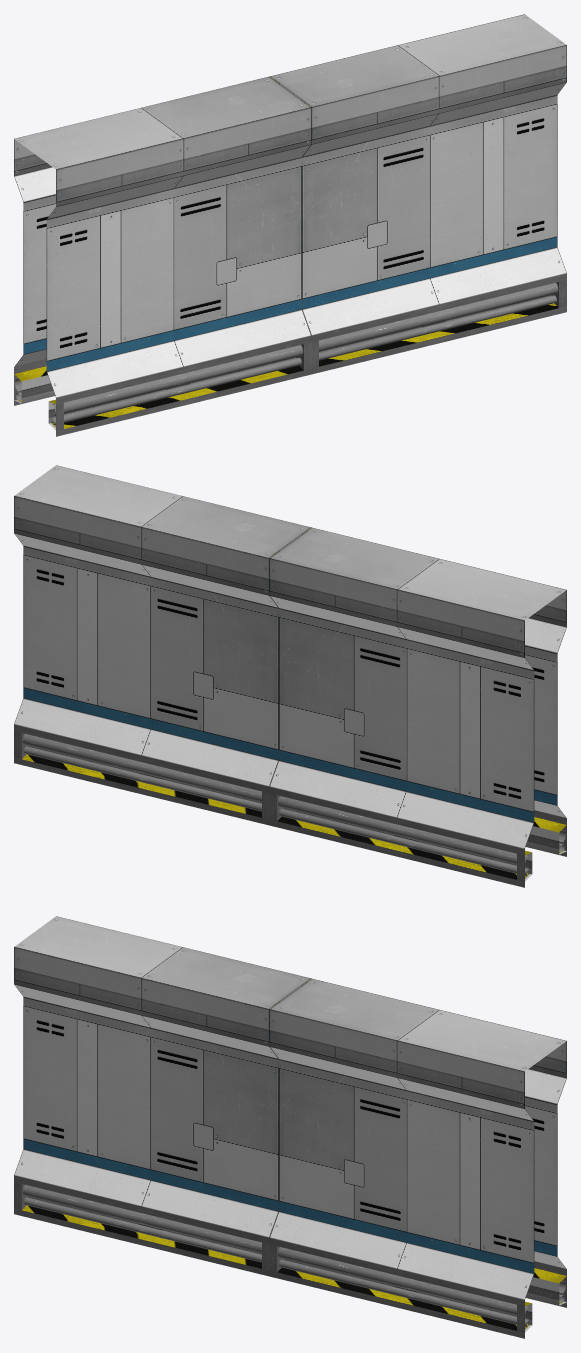
Rendered from Wall_Long_01.FBX.
3 views of the same model, one above another, from view 1: azimuth 30°, elevation 25°; view 2: azimuth 150°, elevation 25°; view 3: azimuth 330°, elevation 25° (orthographic).
Visible parts, largest first — view 1: Wall_Long_01; view 2: Wall_Long_01; view 3: Wall_Long_01.
Part boxes in pixels (x1,y1,x2,y2): Wall_Long_01: [14, 14, 566, 436]; Wall_Long_01: [14, 465, 566, 887]; Wall_Long_01: [14, 916, 566, 1338].
Bounding box in the file's own units: 280 × 140 × 40.03.
